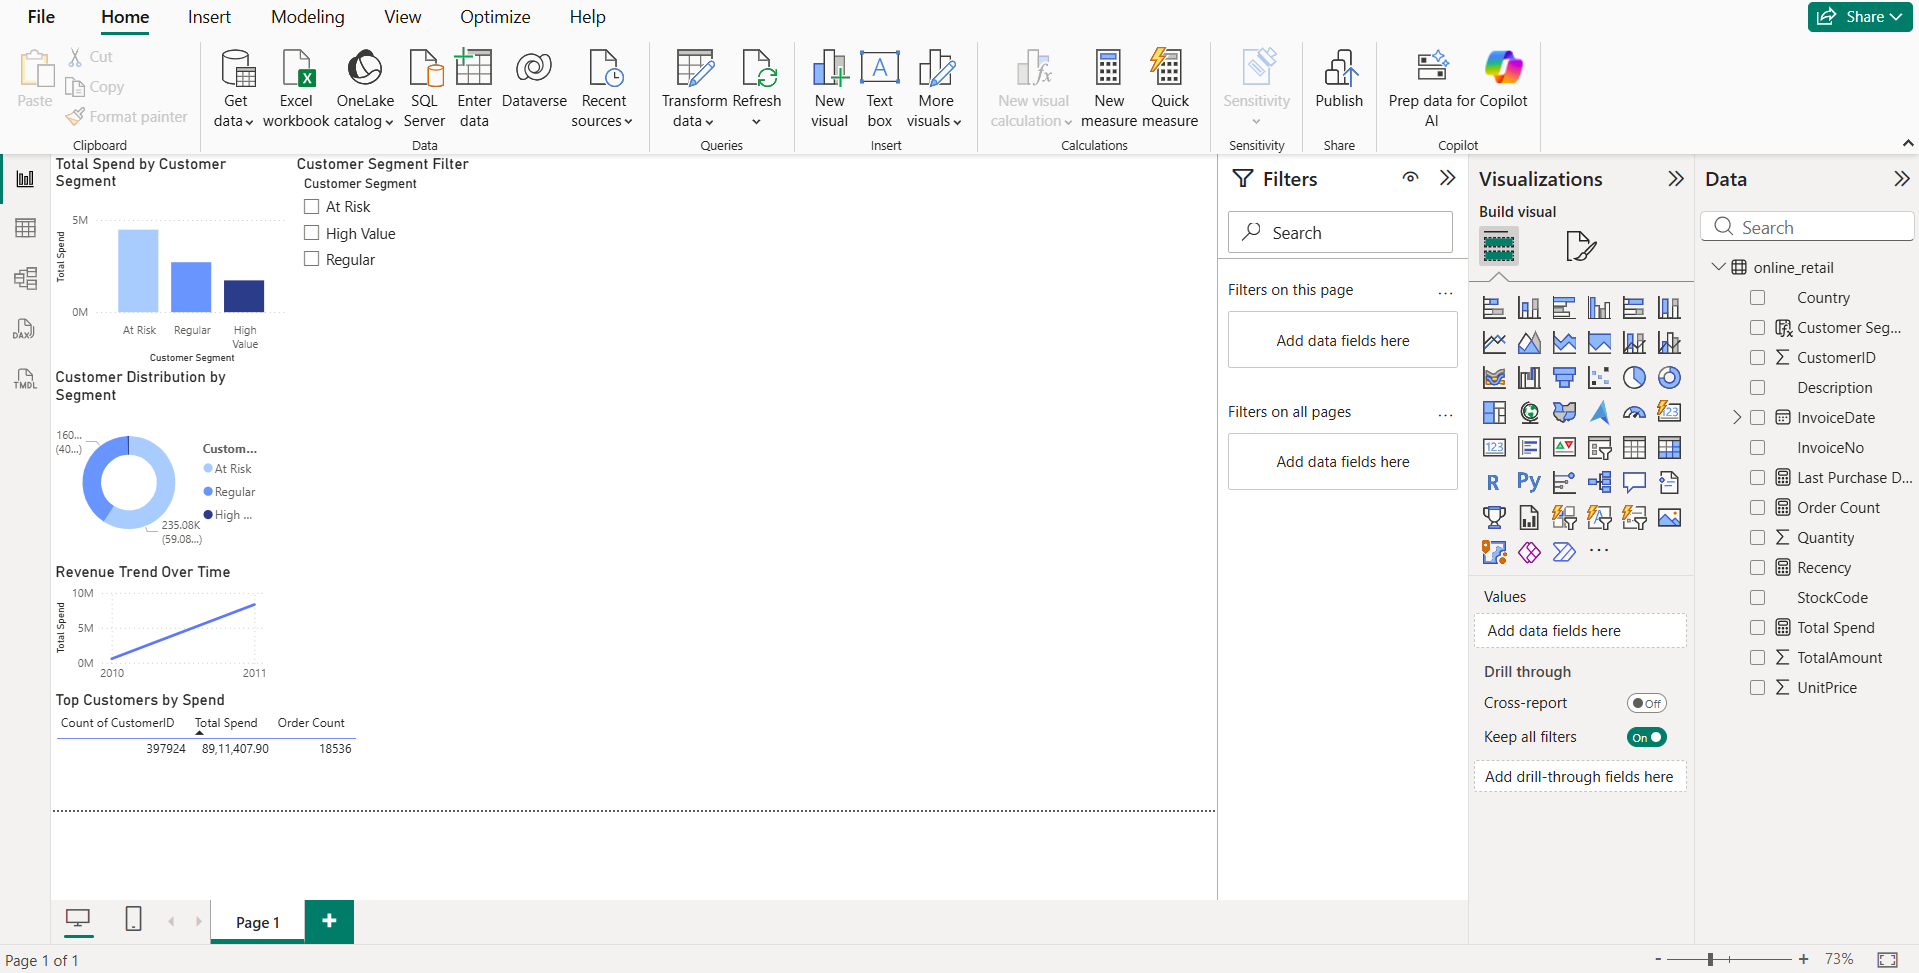

What the dashboard file says about the page in this screenshot:
{"tool":"powerbi","page":{"name":"Page 1","canvas":[1280,720],"ordinal":0},"visuals":[{"type":"clusteredColumnChart","title":"Total Spend by Customer Segment","fields":{"Category":["online_retail.Customer Segment"],"Y":["online_retail.Total Spend"]},"box":[0,0,264.8,234.6],"z":0},{"type":"donutChart","title":"Customer Distribution by Segment","fields":{"Category":["online_retail.Customer Segment"],"Y":["CountNonNull(online_retail.CustomerID)"]},"box":[0,234.6,241.5,214.1],"z":1},{"type":"lineChart","title":"Revenue Trend Over Time","fields":{"Category":["online_retail.InvoiceDate.Variation.Date Hierarchy.Year","online_retail.InvoiceDate.Variation.Date Hierarchy.Quarter","online_retail.InvoiceDate.Variation.Date Hierarchy.Month","online_retail.InvoiceDate.Variation.Date Hierarchy.Day"],"Y":["online_retail.Total Spend"]},"box":[0,448.7,241.5,140],"z":2},{"type":"tableEx","title":"Top Customers by Spend","fields":{"Values":["CountNonNull(online_retail.CustomerID)","online_retail.Total Spend","online_retail.Order Count"]},"box":[0,588.7,341.7,131.7],"z":3},{"type":"slicer","title":"Customer Segment Filter","fields":{"Values":["online_retail.Customer Segment"]},"box":[264.8,0,233.3,157.8],"z":4}]}

Visuals, with their boxes on the page's 1280x720 design canvas (x1, y1, x2, y2). These are canvas units, not pixel positions in the 1919x973 screenshot, which may show the page scaled, cropped or inside an application window:
"Total Spend by Customer Segment" clusteredColumnChart: {"left": 0, "top": 0, "right": 265, "bottom": 235}
"Customer Distribution by Segment" donutChart: {"left": 0, "top": 235, "right": 242, "bottom": 449}
"Revenue Trend Over Time" lineChart: {"left": 0, "top": 449, "right": 242, "bottom": 589}
"Top Customers by Spend" tableEx: {"left": 0, "top": 589, "right": 342, "bottom": 720}
"Customer Segment Filter" slicer: {"left": 265, "top": 0, "right": 498, "bottom": 158}
